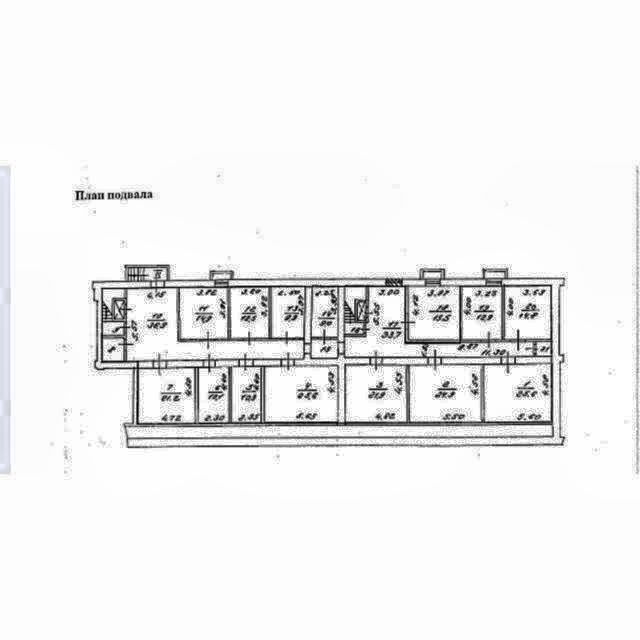room: (345, 286, 551, 358), (125, 287, 304, 361), (265, 366, 338, 422), (409, 366, 481, 422), (484, 364, 552, 422), (346, 366, 407, 423), (138, 368, 195, 423), (408, 286, 459, 340), (179, 287, 227, 338), (505, 286, 550, 339), (461, 287, 500, 339), (230, 288, 269, 338), (198, 368, 228, 422), (272, 286, 303, 337), (232, 367, 260, 422), (313, 287, 337, 337), (102, 288, 124, 335), (345, 287, 365, 335), (128, 267, 166, 280), (103, 338, 124, 361), (312, 340, 338, 358)
